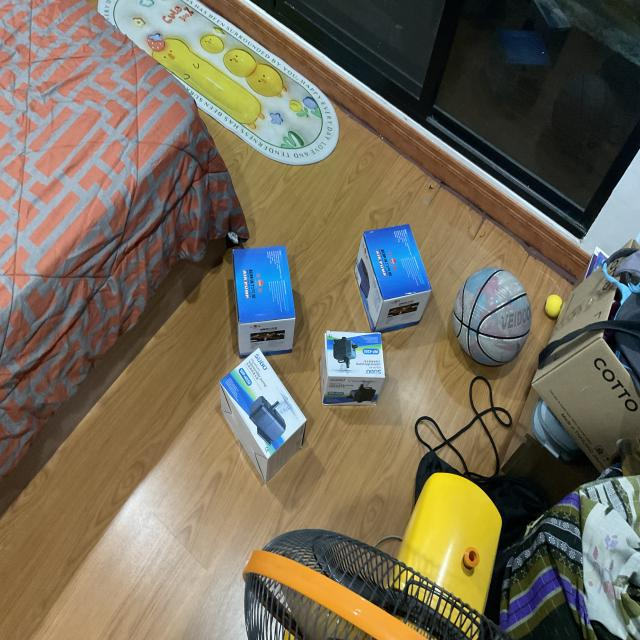SOBO_WP_4200: (210, 342, 304, 475), (312, 318, 389, 412)
YAMANO_LPP_20: (221, 239, 310, 363), (343, 211, 431, 331)
